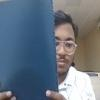notebook: (0, 0, 59, 99)
